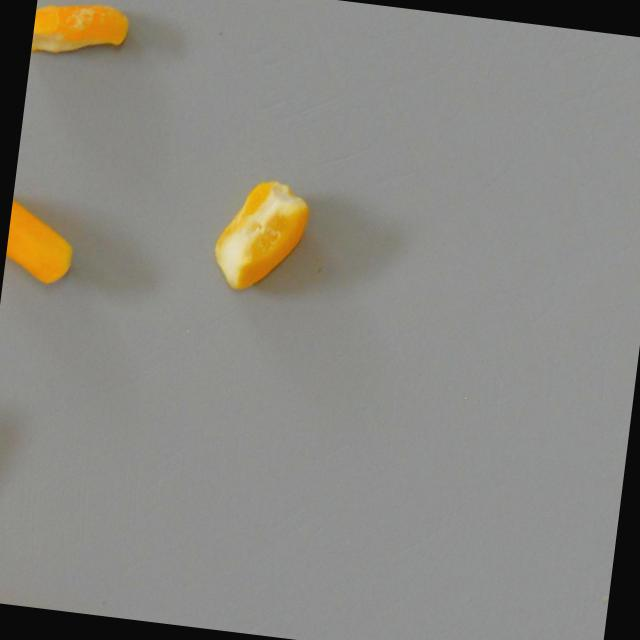estandar: (3, 191, 80, 286)
pelicula: (209, 173, 313, 297), (30, 0, 132, 68)
